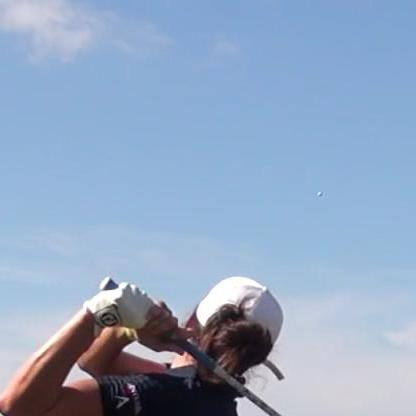golfball: (315, 189, 320, 196)
